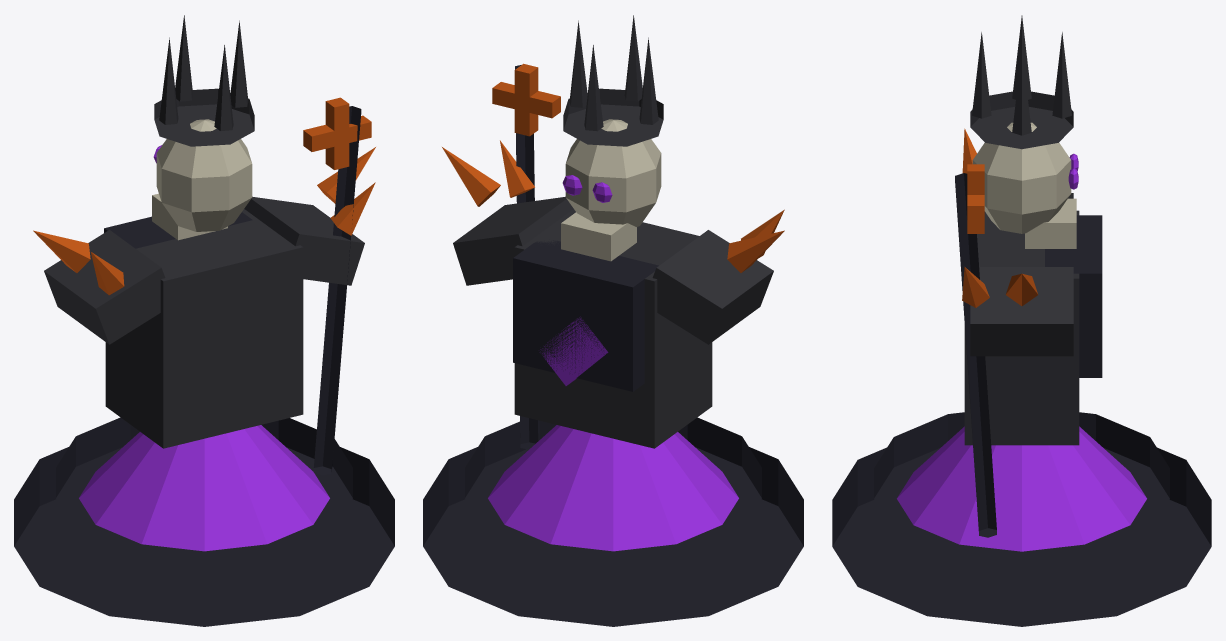
File: king_lich.obj
3 renders of one model, left to right at view 1: azimuth 30°, elevation 25°; view 2: azimuth 150°, elevation 25°; view 3: azimuth 270°, elevation 25°, orthographic.
Parts seen in each view (by area): view 1: king_lich; view 2: king_lich; view 3: king_lich.
Part boxes in pixels (<box>): king_lich: <box>14,15,394,626</box>; king_lich: <box>423,15,803,626</box>; king_lich: <box>832,15,1211,626</box>.
Bounding box in the file's own units: 0.688 × 0.99 × 0.66.
